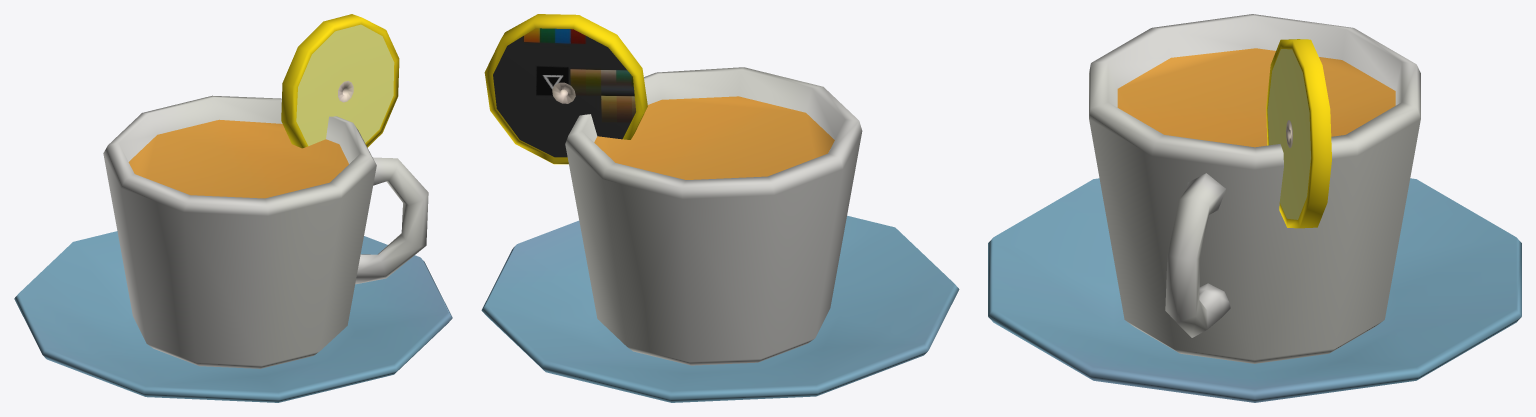
File: Tea.fbx
3 views of the same model, side by side, from view 1: azimuth 30°, elevation 25°; view 2: azimuth 150°, elevation 25°; view 3: azimuth 270°, elevation 25° (orthographic). The views are drawn at different scales.
Visible parts, largest first — view 1: tea; view 2: tea; view 3: tea.
Boxes of the visible parts, <box> form: tea: <box>14,14,452,402</box>; tea: <box>481,14,959,402</box>; tea: <box>988,14,1521,402</box>.
Size of the model in its own units: 13.12 by 9.39 by 12.48.
